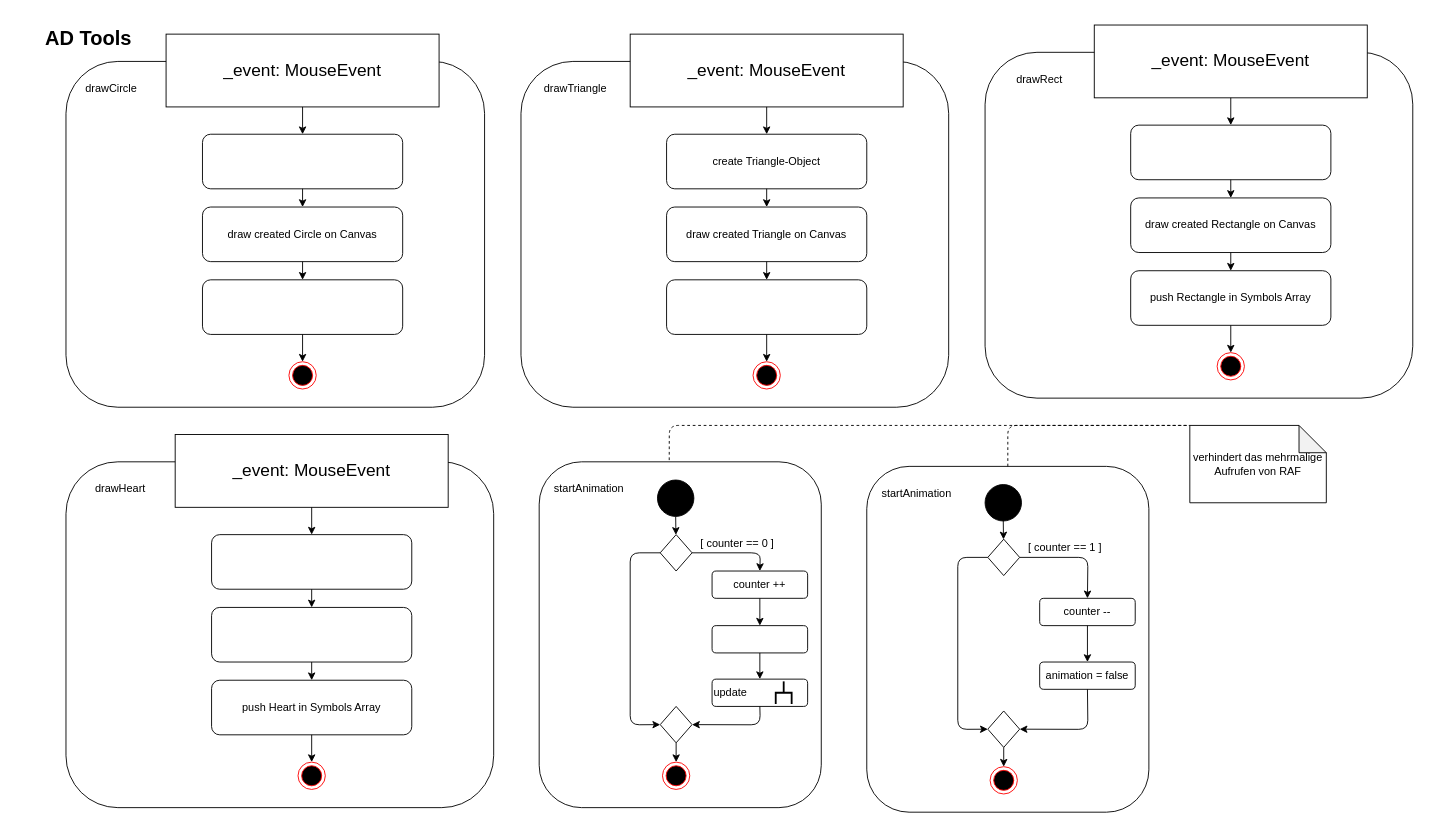
Some shapes in this 1429 by 828 pixel diagram are drawn without their labels. Each missing label, with the box of its shape:
animation = true: (711, 625, 808, 653)
create Circle-Object: (202, 133, 403, 189)
create Heart-Object: (211, 534, 412, 589)
create Rectangle-Object: (1130, 124, 1331, 180)
draw created Heart on Canvas: (211, 607, 412, 662)
push Circle in Symbols Array: (202, 279, 403, 334)
push Triangle in Symbols Array: (666, 279, 867, 334)
